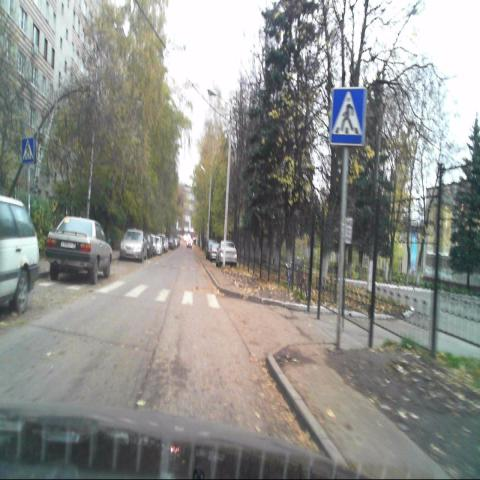5_19_1: (331, 88, 366, 144)
